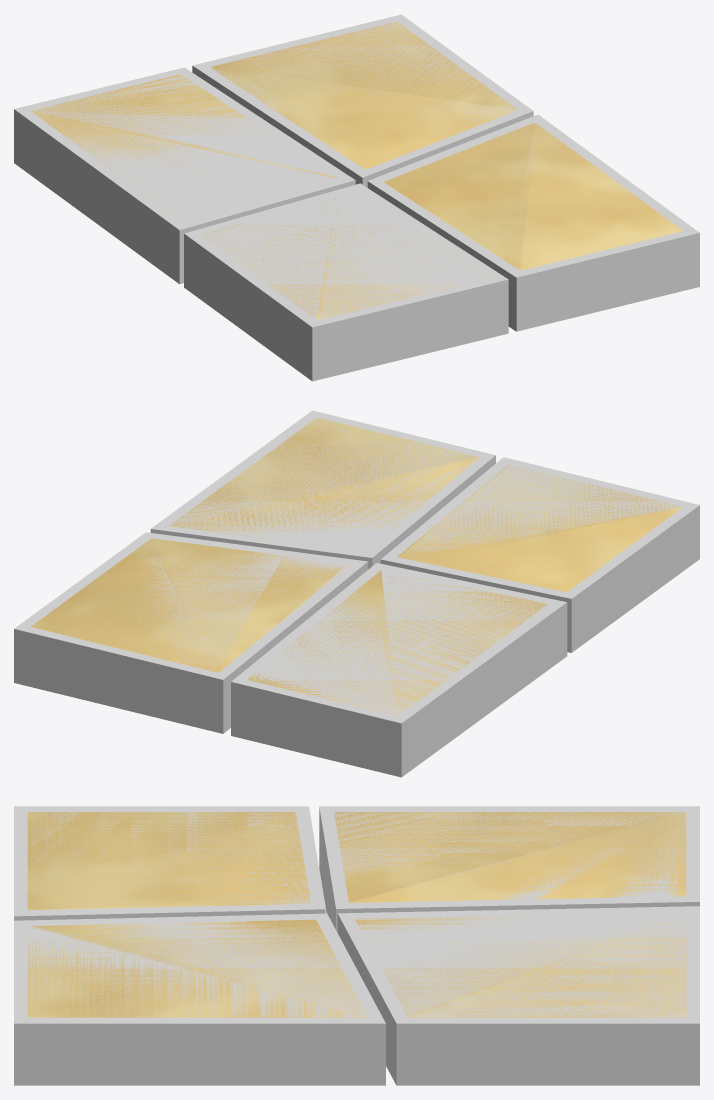
File: SD_G08_Platform_Breakaway.fbx
The picture shows the model from 3 angles, top to bottom: view 1: azimuth 30°, elevation 25°; view 2: azimuth 150°, elevation 25°; view 3: azimuth 270°, elevation 25°; orthographic projection. The views are drawn at different scales.
Visible parts, largest first — view 1: COL_Piece_01, COL_Piece_04, Piece_03, Piece_02, COL_Piece_02, COL_Piece_03, Piece_04, Piece_01; view 2: COL_Piece_04, COL_Piece_03, COL_Piece_02, Piece_03, COL_Piece_01, Piece_02, Piece_01, Piece_04; view 3: COL_Piece_03, COL_Piece_02, Piece_04, Piece_02, Piece_01, COL_Piece_04, Piece_03, COL_Piece_01.
Boxes of the visible parts, x1,y1,x2,y2 form: COL_Piece_01: (184,183,508,381); COL_Piece_04: (14,67,355,284); Piece_03: (210,22,517,169); Piece_02: (384,123,682,270); COL_Piece_02: (367,114,699,331); COL_Piece_03: (192,14,533,187); Piece_04: (31,74,337,222); Piece_01: (201,191,490,319); COL_Piece_04: (231,563,567,777); COL_Piece_03: (14,532,368,733); COL_Piece_02: (150,410,495,569); Piece_03: (31,538,349,672); COL_Piece_01: (380,457,699,652); Piece_02: (170,418,478,544); Piece_01: (398,464,682,591); Piece_04: (248,570,547,715); COL_Piece_03: (337,906,699,1085); COL_Piece_02: (14,913,385,1085); Piece_04: (334,812,686,902); Piece_02: (27,919,367,1017); Piece_01: (27,812,310,909); COL_Piece_04: (319,806,699,932); Piece_03: (355,915,686,1017); COL_Piece_01: (14,806,325,920).
Size of the model in its own units: 3 by 0.4 by 4.
